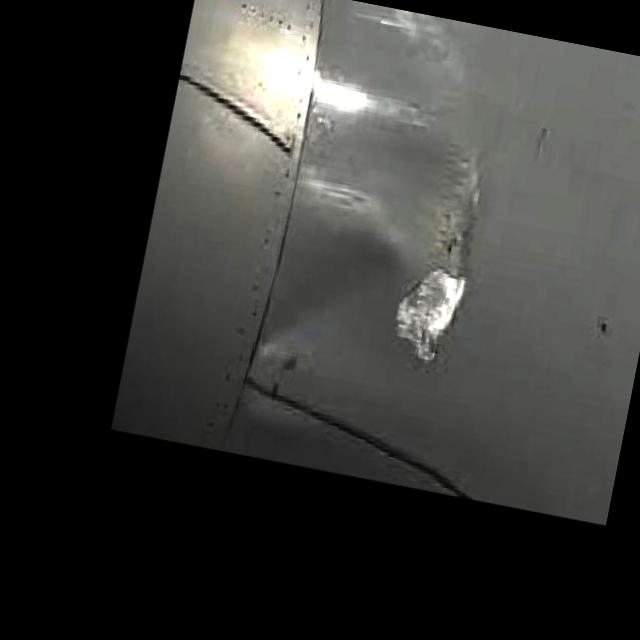dent: (235, 254, 400, 424), (387, 151, 485, 361)
